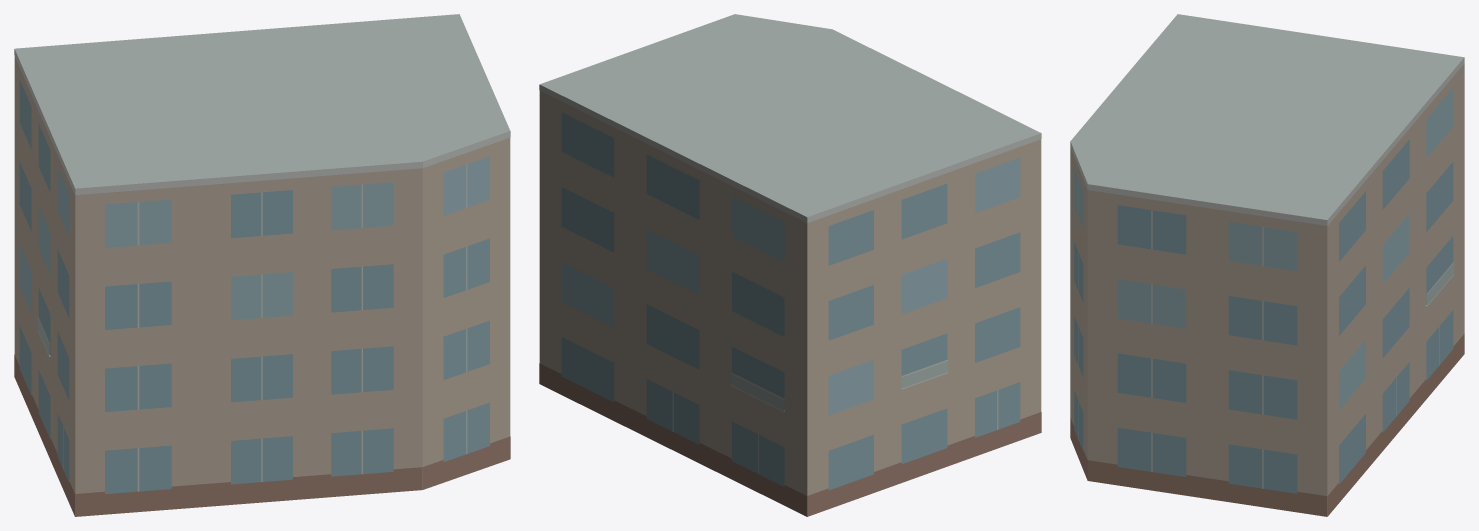
Rendered from residential-48972bfe-ba2e-4d8f-8b38-0d36c4306fac.glb.
The picture shows the model from 3 angles, left to right: view 1: azimuth 30°, elevation 25°; view 2: azimuth 150°, elevation 25°; view 3: azimuth 270°, elevation 25°; orthographic projection. The views are drawn at different scales.
Parts seen in each view (by area): view 1: residential-48972bfe-ba2e-4d8f-8b38-0d36c4306fac.tmp; view 2: residential-48972bfe-ba2e-4d8f-8b38-0d36c4306fac.tmp; view 3: residential-48972bfe-ba2e-4d8f-8b38-0d36c4306fac.tmp.
Part boxes in pixels (box(x1,y1,x2,y2)): residential-48972bfe-ba2e-4d8f-8b38-0d36c4306fac.tmp: box(14, 14, 510, 516); residential-48972bfe-ba2e-4d8f-8b38-0d36c4306fac.tmp: box(539, 14, 1041, 516); residential-48972bfe-ba2e-4d8f-8b38-0d36c4306fac.tmp: box(1070, 14, 1464, 516).
Bounding box in the file's own units: 18.18 × 12.2 × 14.69.
